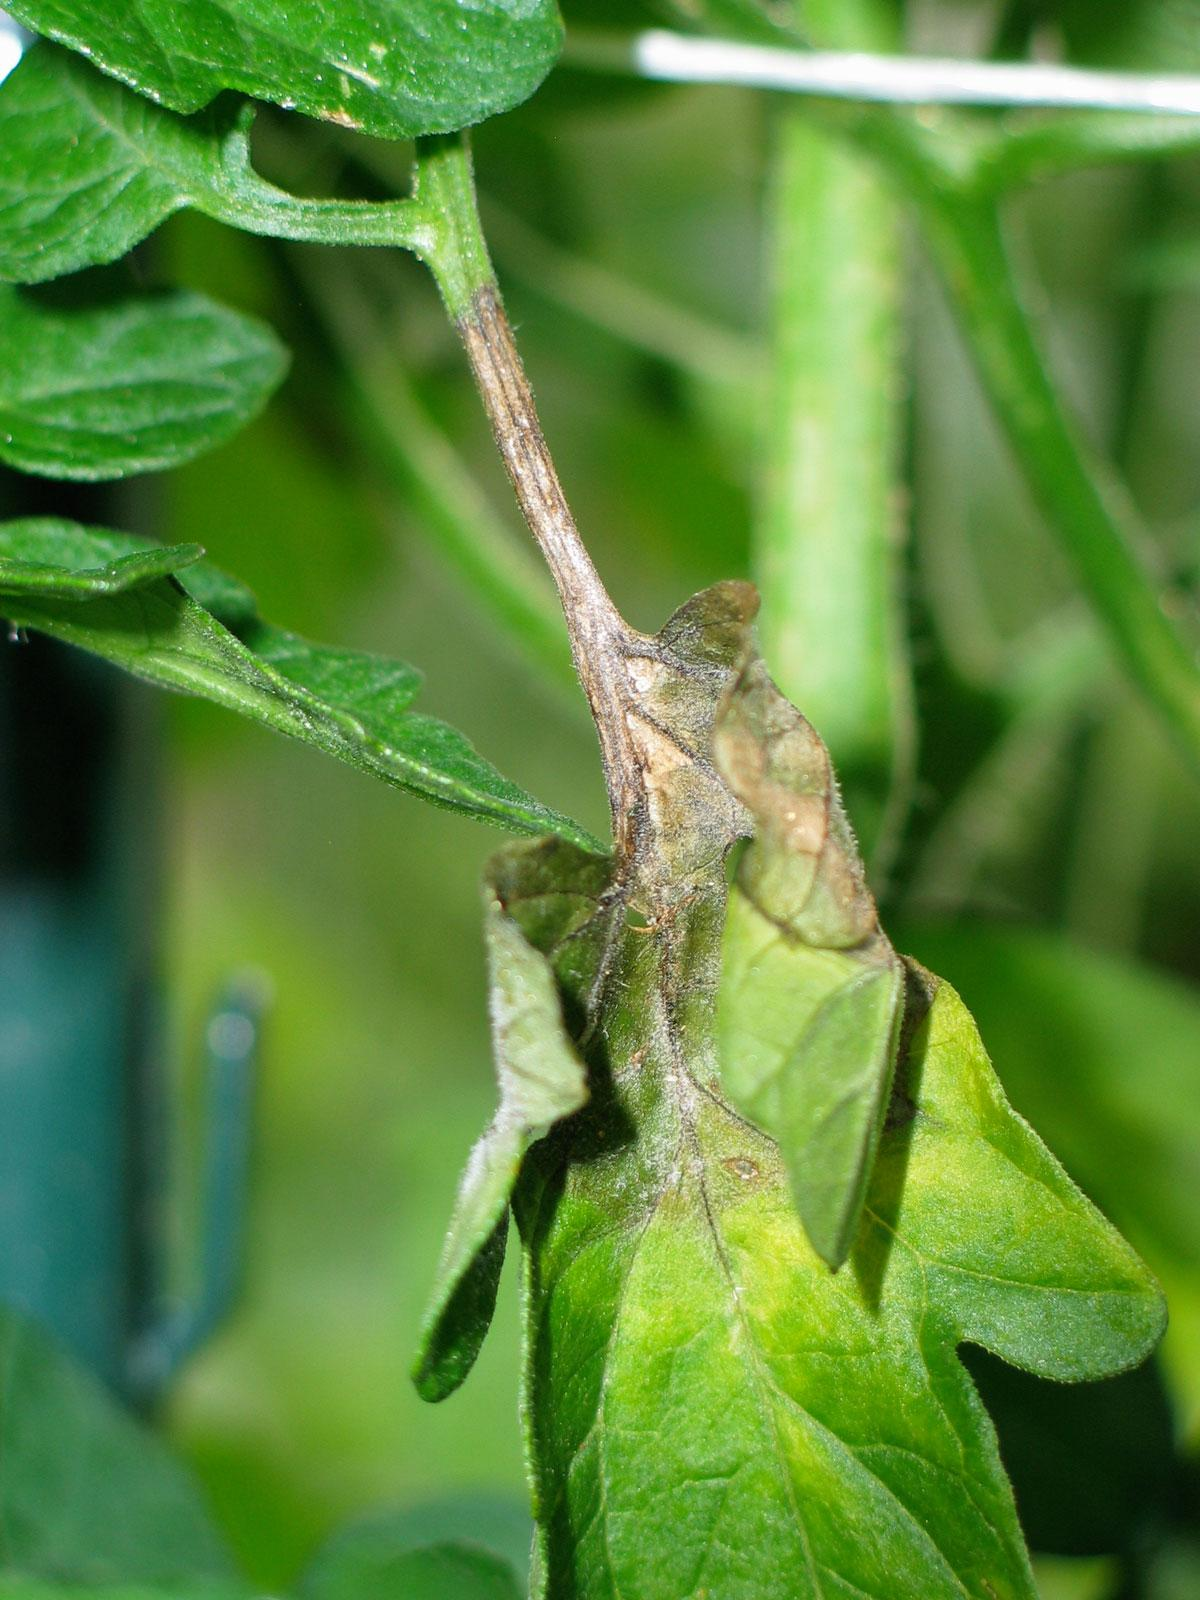Tomato leaf late blight: (418, 528, 1179, 1596)
